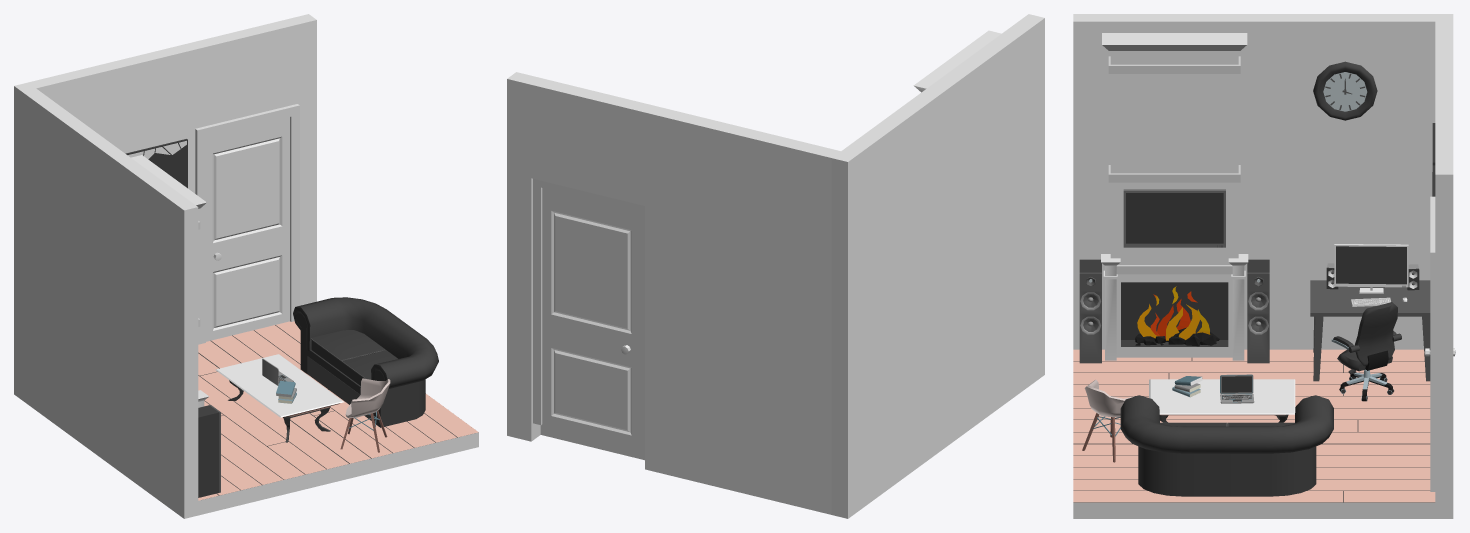
The model's file is room_13.glb.
The picture shows the model from 3 angles, left to right: view 1: azimuth 30°, elevation 25°; view 2: azimuth 150°, elevation 25°; view 3: azimuth 270°, elevation 25°; orthographic projection. The views are drawn at different scales.
Parts seen in each view (by area): view 1: Walls_006.013, floor_020.001, door_017.001, sofa_014.002, Walls_006.016, Walls_006.017, Walls_011.007, Walls_006.012, door_018.001, coffee_table_015.001, musical_instrument_019.002, kitchen_chair_023.002 (+2 smaller); view 2: Walls_006.013, Walls_006.016, door_017.001, Walls_006.017, Walls_006.012, door_018.001, Walls_011.007, tv_wall_006.001; view 3: Walls_006.013, tv_wall_006.001, floor_020.001, sofa_014.002, Walls_011.007, Walls_006.012, coffee_table_015.001, kitchen_table_015.001, office_chair_017.001, electronics_025.001, prop_025.003, musical_instrument_019.001 (+7 smaller).
Part boxes in pixels (x1,y1,x2,y2): Walls_006.013: (14,82,198,518); floor_020.001: (198,321,478,500); door_017.001: (206,117,289,341); sofa_014.002: (293,297,438,427); Walls_006.016: (28,43,197,193); Walls_006.017: (190,19,295,127); Walls_011.007: (198,325,478,515); Walls_006.012: (288,14,316,305); door_018.001: (195,104,299,344); coffee_table_015.001: (215,354,344,442); musical_instrument_019.002: (198,405,220,497); kitchen_chair_023.002: (340,378,390,452); Walls_006.013: (831,14,1044,518); Walls_006.016: (645,105,840,514); door_017.001: (542,188,639,447); Walls_006.017: (531,78,653,205); Walls_006.012: (507,72,540,441); door_018.001: (533,178,644,450); Walls_011.007: (540,424,644,460); tv_wall_006.001: (913,30,1001,92); Walls_006.013: (1073,14,1453,349); tv_wall_006.001: (1101,33,1248,360); floor_020.001: (1073,349,1435,502); sofa_014.002: (1120,395,1333,496); Walls_011.007: (1073,358,1435,518); Walls_006.012: (1435,163,1453,518); coffee_table_015.001: (1149,379,1295,422); kitchen_table_015.001: (1310,280,1430,381); office_chair_017.001: (1331,302,1401,401); electronics_025.001: (1334,244,1408,293); prop_025.003: (1313,61,1377,120); musical_instrument_019.001: (1247,259,1269,363).
Size of the model in its own units: 4.2 by 4.2 by 4.23.
Materials: 1 (1 with a texture image).
